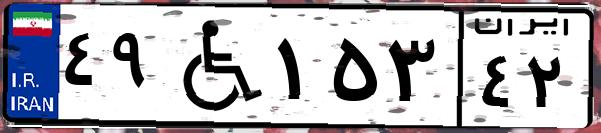1: (270, 28, 330, 110)
2: (525, 38, 570, 115)
3: (385, 28, 445, 110)
4: (57, 26, 110, 100), (475, 38, 525, 113)
5: (330, 28, 385, 110)
9: (110, 28, 158, 98)
ژ (معلولین و جانبازان): (158, 12, 270, 120)
